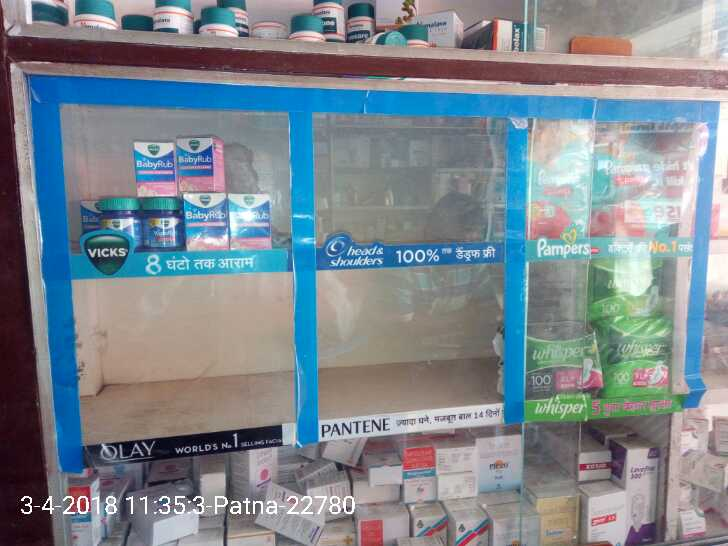vicks: (178, 137, 226, 192), (140, 198, 186, 255), (227, 197, 269, 252), (185, 197, 227, 252), (137, 142, 175, 193), (101, 200, 136, 248)
